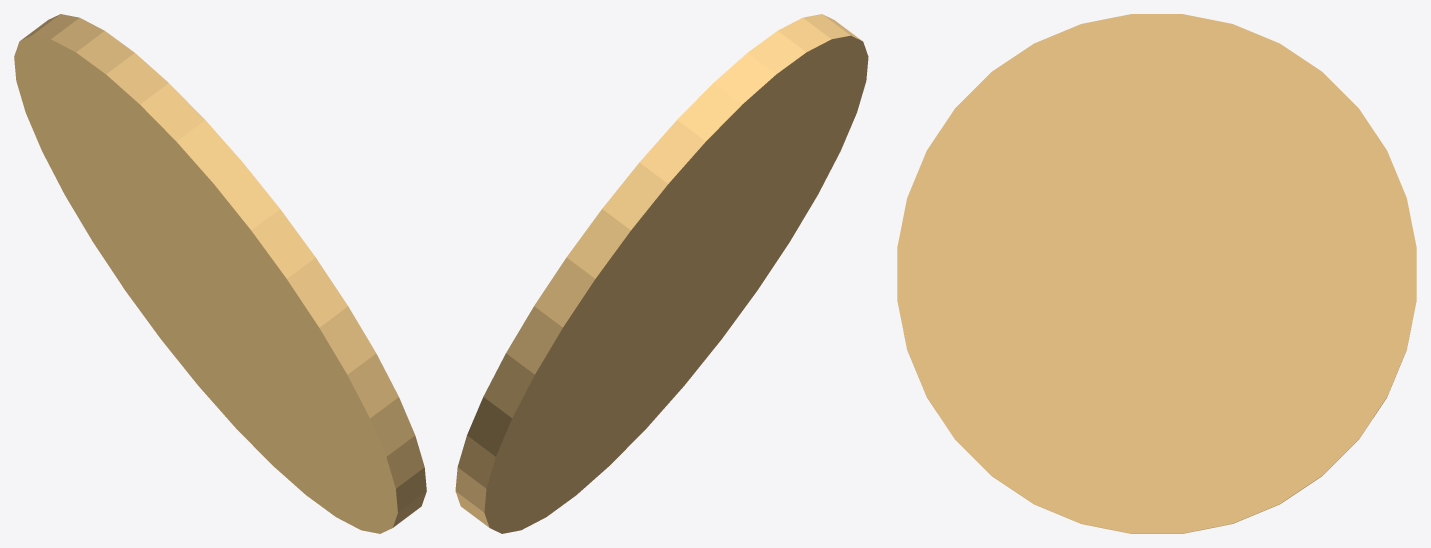
File: urdf_Pioneer_p3dx_visible_vis_24.dae
3 renders of one model, left to right at view 1: azimuth 30°, elevation 25°; view 2: azimuth 150°, elevation 25°; view 3: azimuth 270°, elevation 25°, orthographic. The views are drawn at different scales.
Visible parts, largest first — view 1: Node_0x742f36eafe10; view 2: Node_0x742f36eafe10; view 3: Node_0x742f36eafe10.
Part boxes in pixels (box(x1,y1,x2,y2)): Node_0x742f36eafe10: box(14, 14, 426, 533); Node_0x742f36eafe10: box(455, 14, 868, 533); Node_0x742f36eafe10: box(897, 14, 1416, 533).
Bounding box in the file's own units: 0.0174 × 0.0329 × 0.0355.
